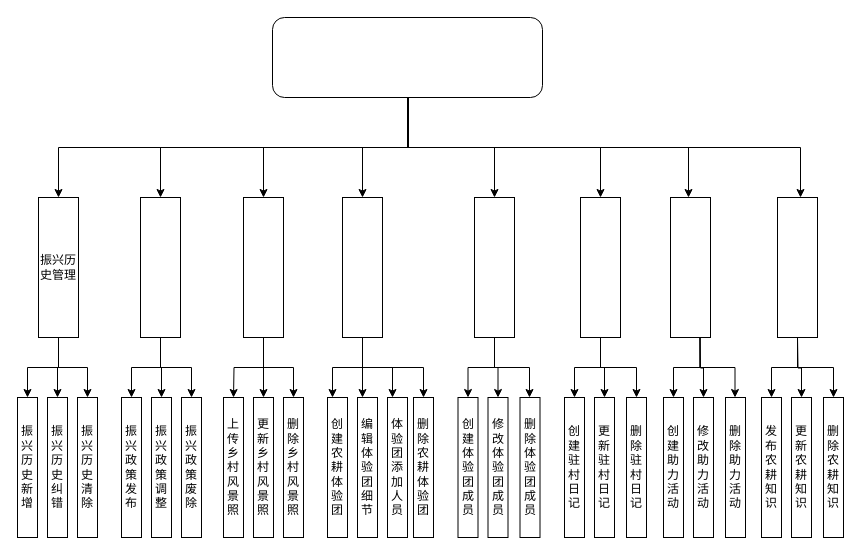
This 861x555 diagram has some shape labels left out. The shapes that lost their labels are listed below. From the top down, each one's box as (x1, y1, x2, y2) in pixels, then its label:
(272, 16, 542, 98): 基于SpringBoot的乡村爱国主义教育网站的实现与设计
(140, 196, 180, 338): 乡村振兴政策管理
(242, 196, 284, 338): 美丽乡村风景照管理
(342, 196, 382, 338): 农耕体验团管理
(474, 196, 514, 338): 体验团成员管理
(580, 196, 620, 338): 驻村日记管理
(670, 196, 710, 338): 助力乡村活动管理
(776, 196, 818, 338): 农耕知识管理
